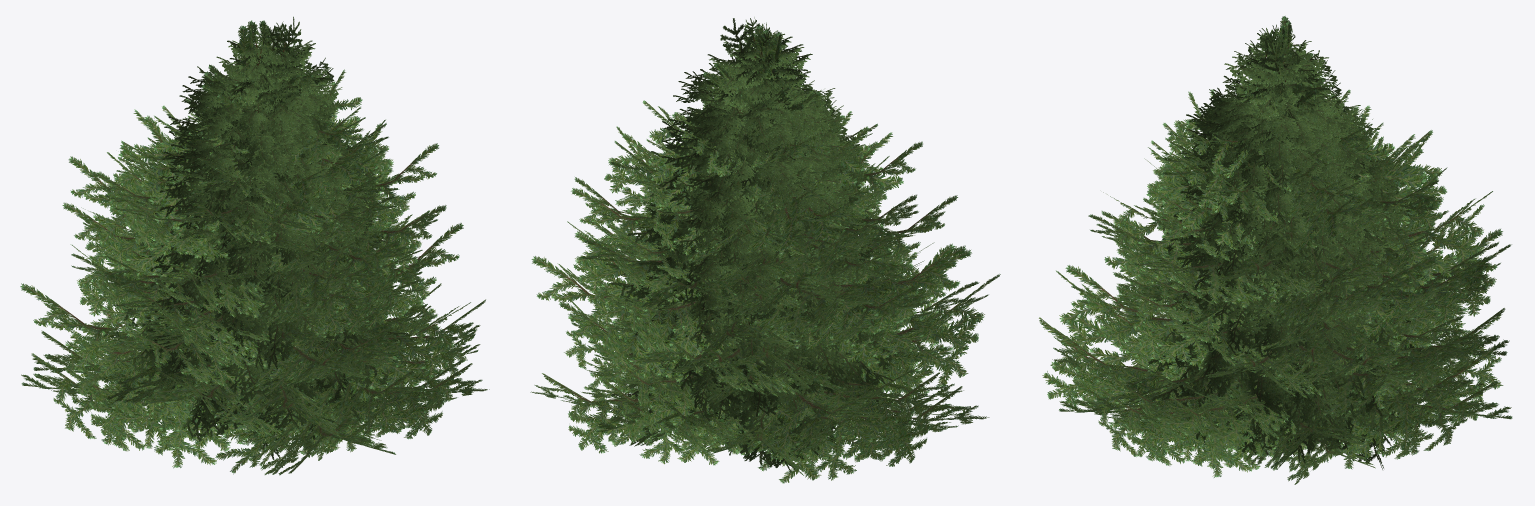
Rendered from fir.glb.
The picture shows the model from 3 angles, left to right: view 1: azimuth 30°, elevation 25°; view 2: azimuth 150°, elevation 25°; view 3: azimuth 270°, elevation 25°; orthographic projection. The views are drawn at different scales.
Visible parts, largest first — view 1: fir-7-foliage, fir-8-foliage, fir-9-foliage, fir-3-foliage, fir-6-foliage, fir-5-foliage, fir-1-foliage, fir-4-foliage, fir-2-foliage; view 2: fir-8-foliage, fir-7-foliage, fir-9-foliage, fir-4-foliage, fir-6-foliage, fir-2-foliage, fir-1-foliage, fir-3-foliage, fir-5-foliage; view 3: fir-7-foliage, fir-8-foliage, fir-9-foliage, fir-6-foliage, fir-5-foliage, fir-2-foliage, fir-4-foliage, fir-1-foliage, fir-3-foliage.
Part boxes in pixels (box(x1,y1,x2,y2)): fir-7-foliage: box(20, 20, 489, 475); fir-8-foliage: box(32, 25, 480, 460); fir-9-foliage: box(21, 20, 485, 468); fir-3-foliage: box(150, 24, 388, 417); fir-6-foliage: box(121, 26, 409, 443); fir-5-foliage: box(122, 24, 406, 459); fir-1-foliage: box(153, 22, 380, 441); fir-4-foliage: box(123, 16, 408, 433); fir-2-foliage: box(145, 21, 359, 380); fir-8-foliage: box(530, 31, 970, 475); fir-7-foliage: box(559, 25, 979, 469); fir-9-foliage: box(574, 30, 1000, 483); fir-4-foliage: box(598, 18, 894, 467); fir-6-foliage: box(605, 23, 904, 459); fir-2-foliage: box(637, 18, 868, 410); fir-1-foliage: box(639, 30, 866, 455); fir-3-foliage: box(639, 22, 871, 440); fir-5-foliage: box(609, 17, 899, 471); fir-7-foliage: box(1039, 25, 1509, 477); fir-8-foliage: box(1084, 16, 1512, 484); fir-9-foliage: box(1052, 21, 1511, 461); fir-6-foliage: box(1156, 28, 1426, 460); fir-5-foliage: box(1131, 31, 1422, 469); fir-2-foliage: box(1180, 31, 1410, 387); fir-4-foliage: box(1133, 39, 1441, 463); fir-1-foliage: box(1172, 21, 1404, 442); fir-3-foliage: box(1152, 24, 1399, 447).
Bounding box in the file's own units: 1.06 × 1 × 1.08.
2 materials, 2 textured.
